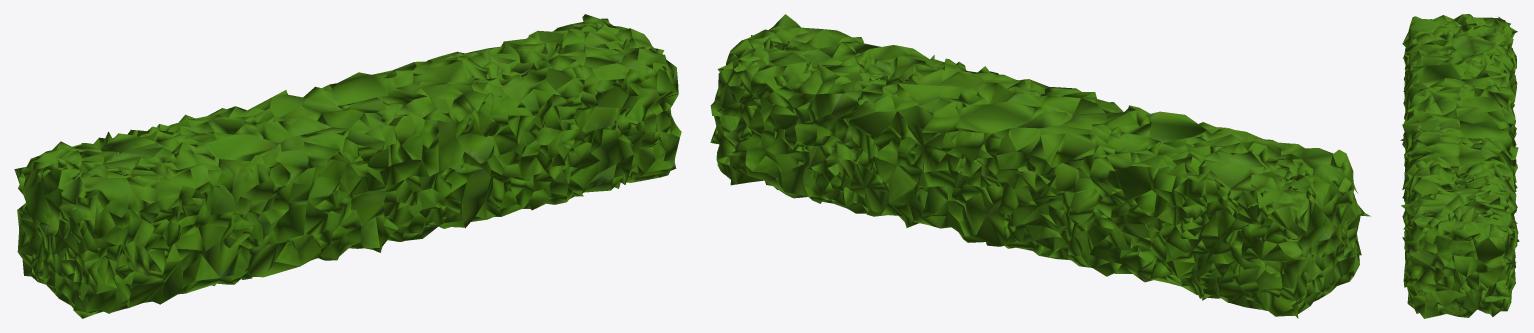
Rendered from getkong-hecke.glb.
3 renders of one model, left to right at view 1: azimuth 30°, elevation 25°; view 2: azimuth 150°, elevation 25°; view 3: azimuth 270°, elevation 25°, orthographic. The views are drawn at different scales.
Visible parts, largest first — view 1: output_unwrapped; view 2: output_unwrapped; view 3: output_unwrapped.
Boxes of the visible parts, left/top/right/bottom form: output_unwrapped: left=14, top=14, right=681, bottom=318; output_unwrapped: left=710, top=14, right=1370, bottom=318; output_unwrapped: left=1400, top=14, right=1519, bottom=318.
Size of the model in its own units: 1.9 by 0.3914 by 0.4363.
Materials: 1 (1 with a texture image).
